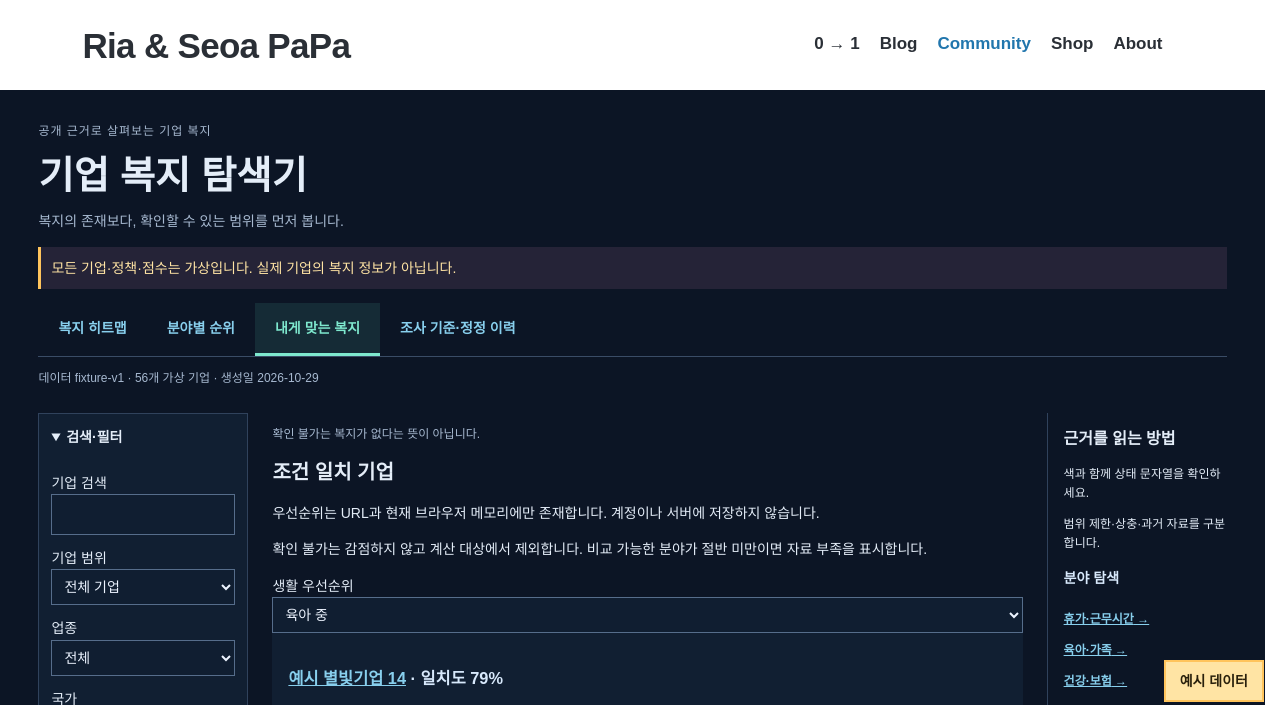
Test: labels matching results, insufficient evidence and custom URL weights without storing personal data
The width and height of the screenshot is (1280, 705).
Check: the heading "조건 일치 기업" is shown, box x1=272 y1=461 x2=394 y2=483
Step 1. Select "직접 설정" in the dropdown labelled "생활 우선순위" → point(648, 615), box x1=272 y1=597 x2=1023 y2=633
(page scrolled)
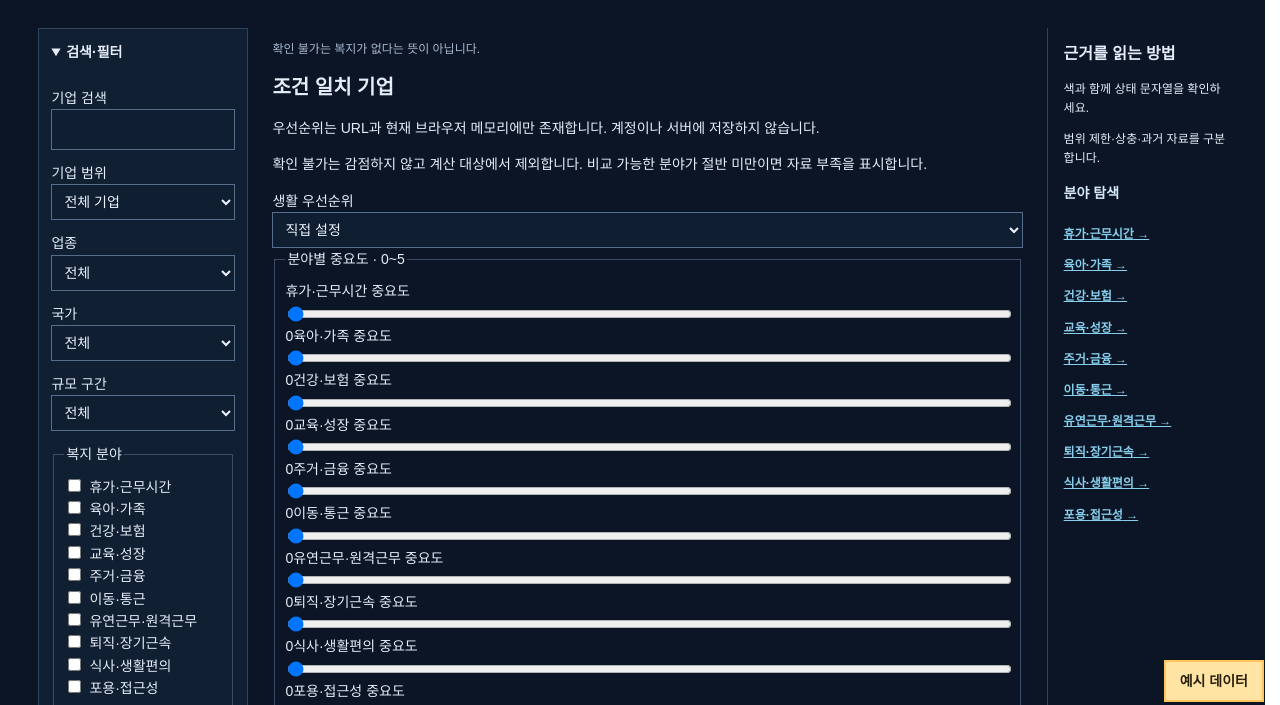
Step 2. Set the slider labelled "육아·가족 중요도" to "5" → point(1004, 358), box x1=287 y1=349 x2=1012 y2=367
(page scrolled)
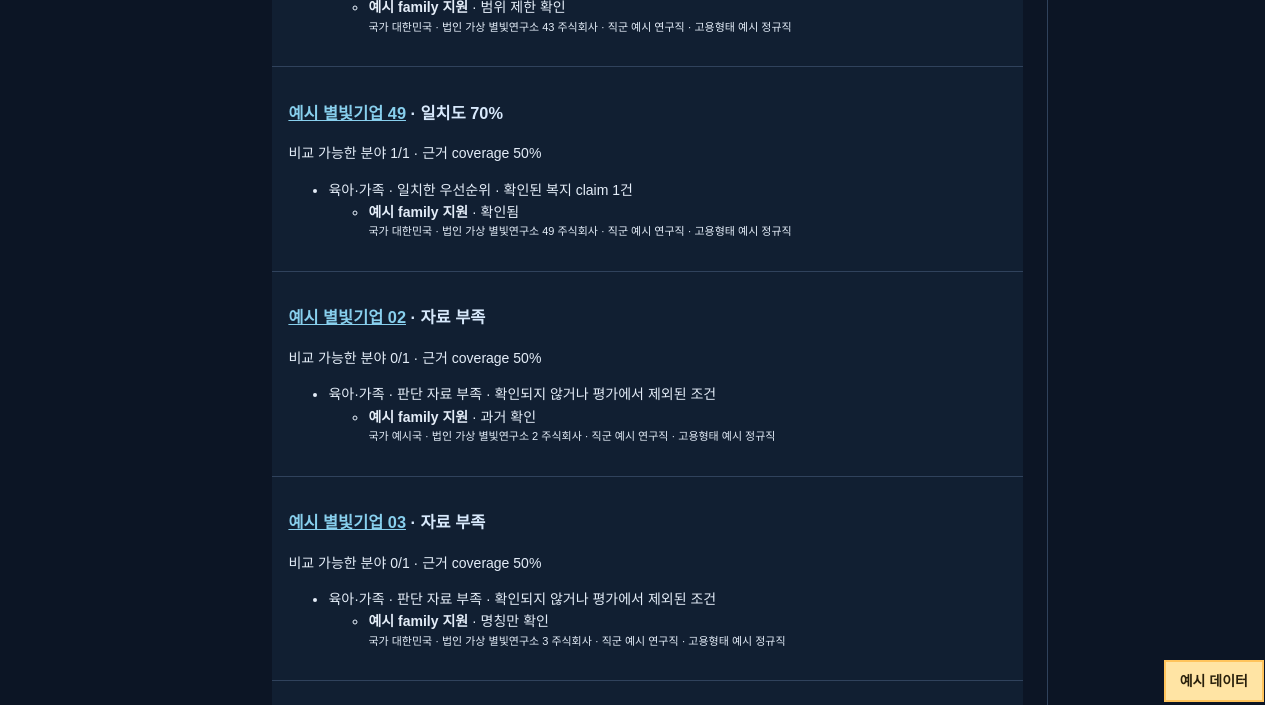
Check: the list item "판단 자료 부족" is shown, box x1=397 y1=386 x2=716 y2=402
